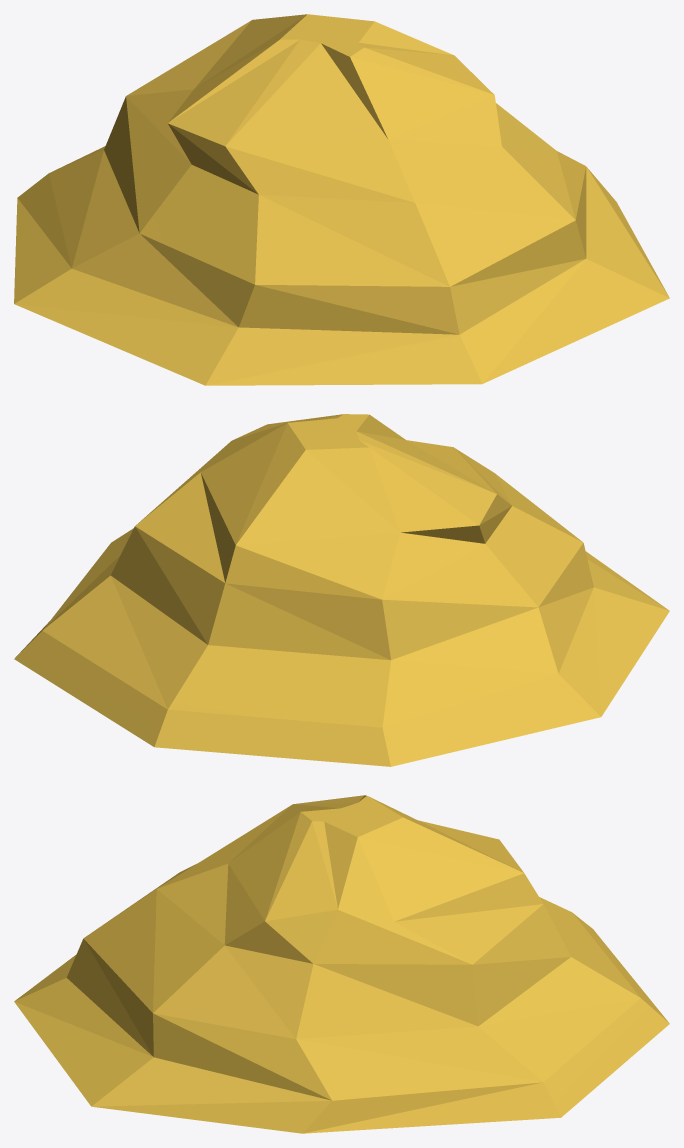
Rendered from harvest_b.gltf.
The picture shows the model from 3 angles, top to bottom: view 1: azimuth 30°, elevation 25°; view 2: azimuth 150°, elevation 25°; view 3: azimuth 270°, elevation 25°; orthographic projection. The views are drawn at different scales.
Parts seen in each view (by area): view 1: harvest_b001; view 2: harvest_b001; view 3: harvest_b001.
Boxes of the visible parts, x1,y1,x2,y2 form: harvest_b001: (14, 14, 669, 385); harvest_b001: (14, 414, 669, 766); harvest_b001: (14, 795, 669, 1133).
Bounding box in the file's own units: 1.98 × 0.7178 × 2.15.
1 material, 1 textured.
